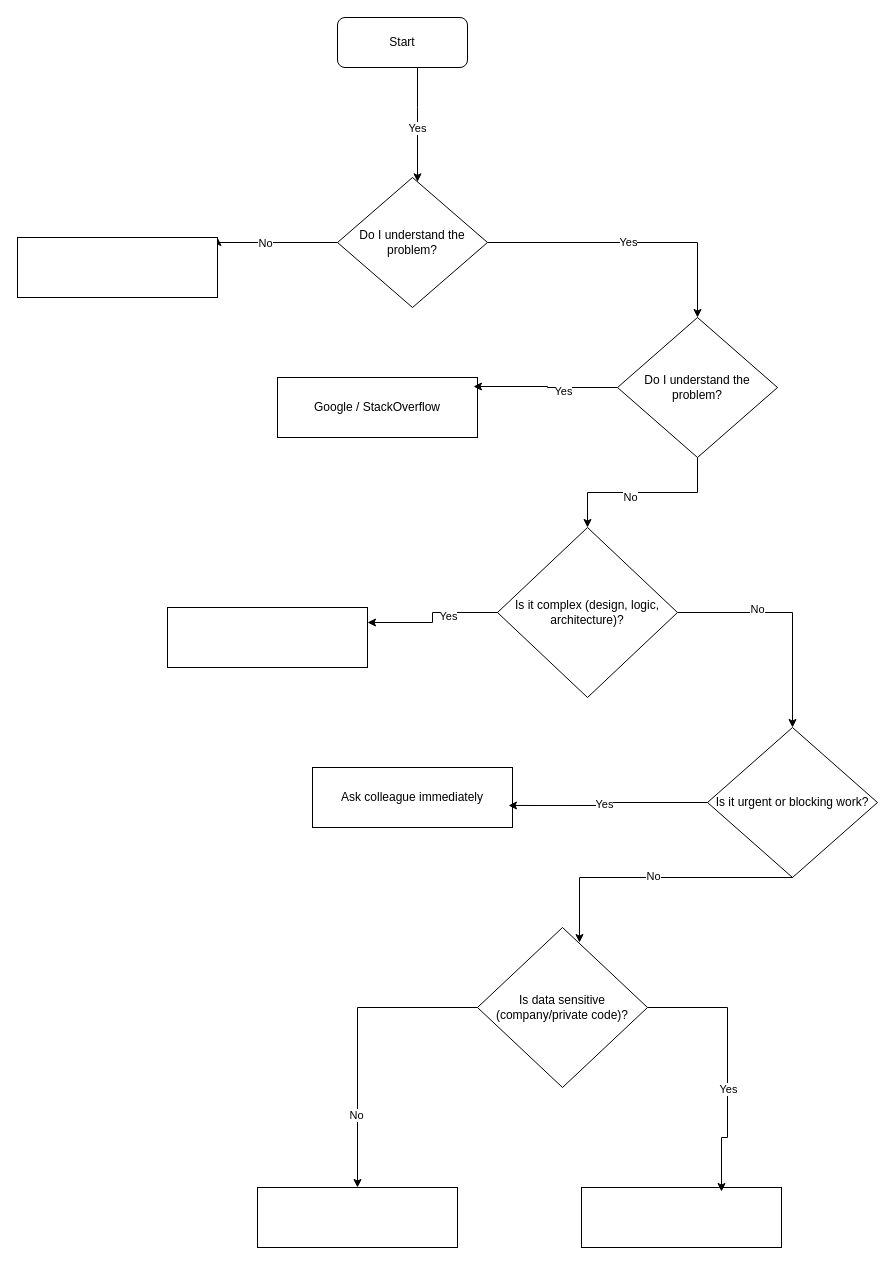
The diagram is 895 pixels wide and 1265 high, and some of its shapes have lost their labels. Here are the shapes that lost their labels. From the top down, the centre of each, then its label:
point (117, 267): Use AI (ChatGPT) to explain
point (267, 637): Use AI first → then colleague if needed
point (357, 1217): Use AI
point (681, 1217): Ask colleague (NOT AI)
